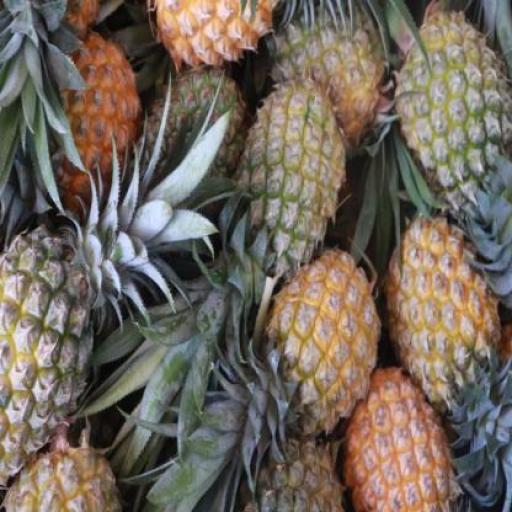------------------------------: (392, 10, 512, 224), (1, 232, 99, 488), (237, 79, 343, 274), (268, 8, 386, 150)
Pineapple - v8 v1: (384, 216, 494, 412), (269, 252, 376, 436), (341, 365, 454, 512)
